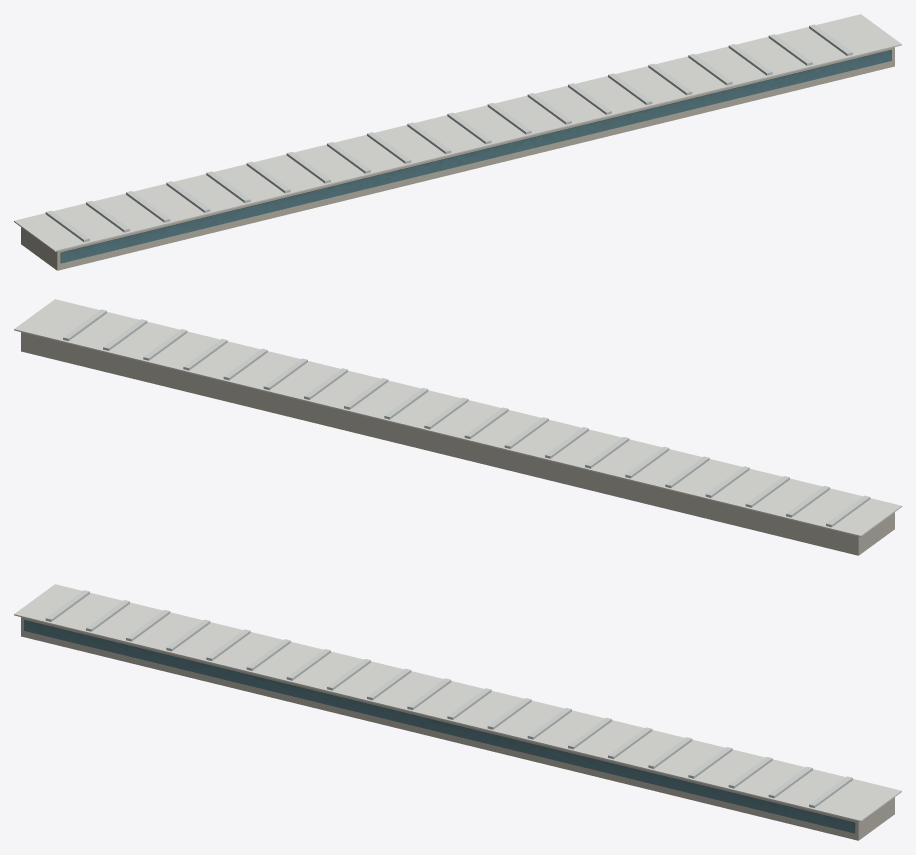
The model's file is aus-terminal-context.glb.
3 views of the same model, one above another, from view 1: azimuth 30°, elevation 25°; view 2: azimuth 150°, elevation 25°; view 3: azimuth 330°, elevation 25° (orthographic).
Visible parts, largest first — view 1: 60 Existing terminal - massing__Blue gray glazing; view 2: 60 Existing terminal - massing__Blue gray glazing; view 3: 60 Existing terminal - massing__Blue gray glazing.
Boxes of the visible parts, x1,y1,x2,y2 form: 60 Existing terminal - massing__Blue gray glazing: (14, 14, 901, 270); 60 Existing terminal - massing__Blue gray glazing: (14, 299, 901, 555); 60 Existing terminal - massing__Blue gray glazing: (14, 584, 901, 840).
Size of the model in its own units: 738 by 21 by 62.
